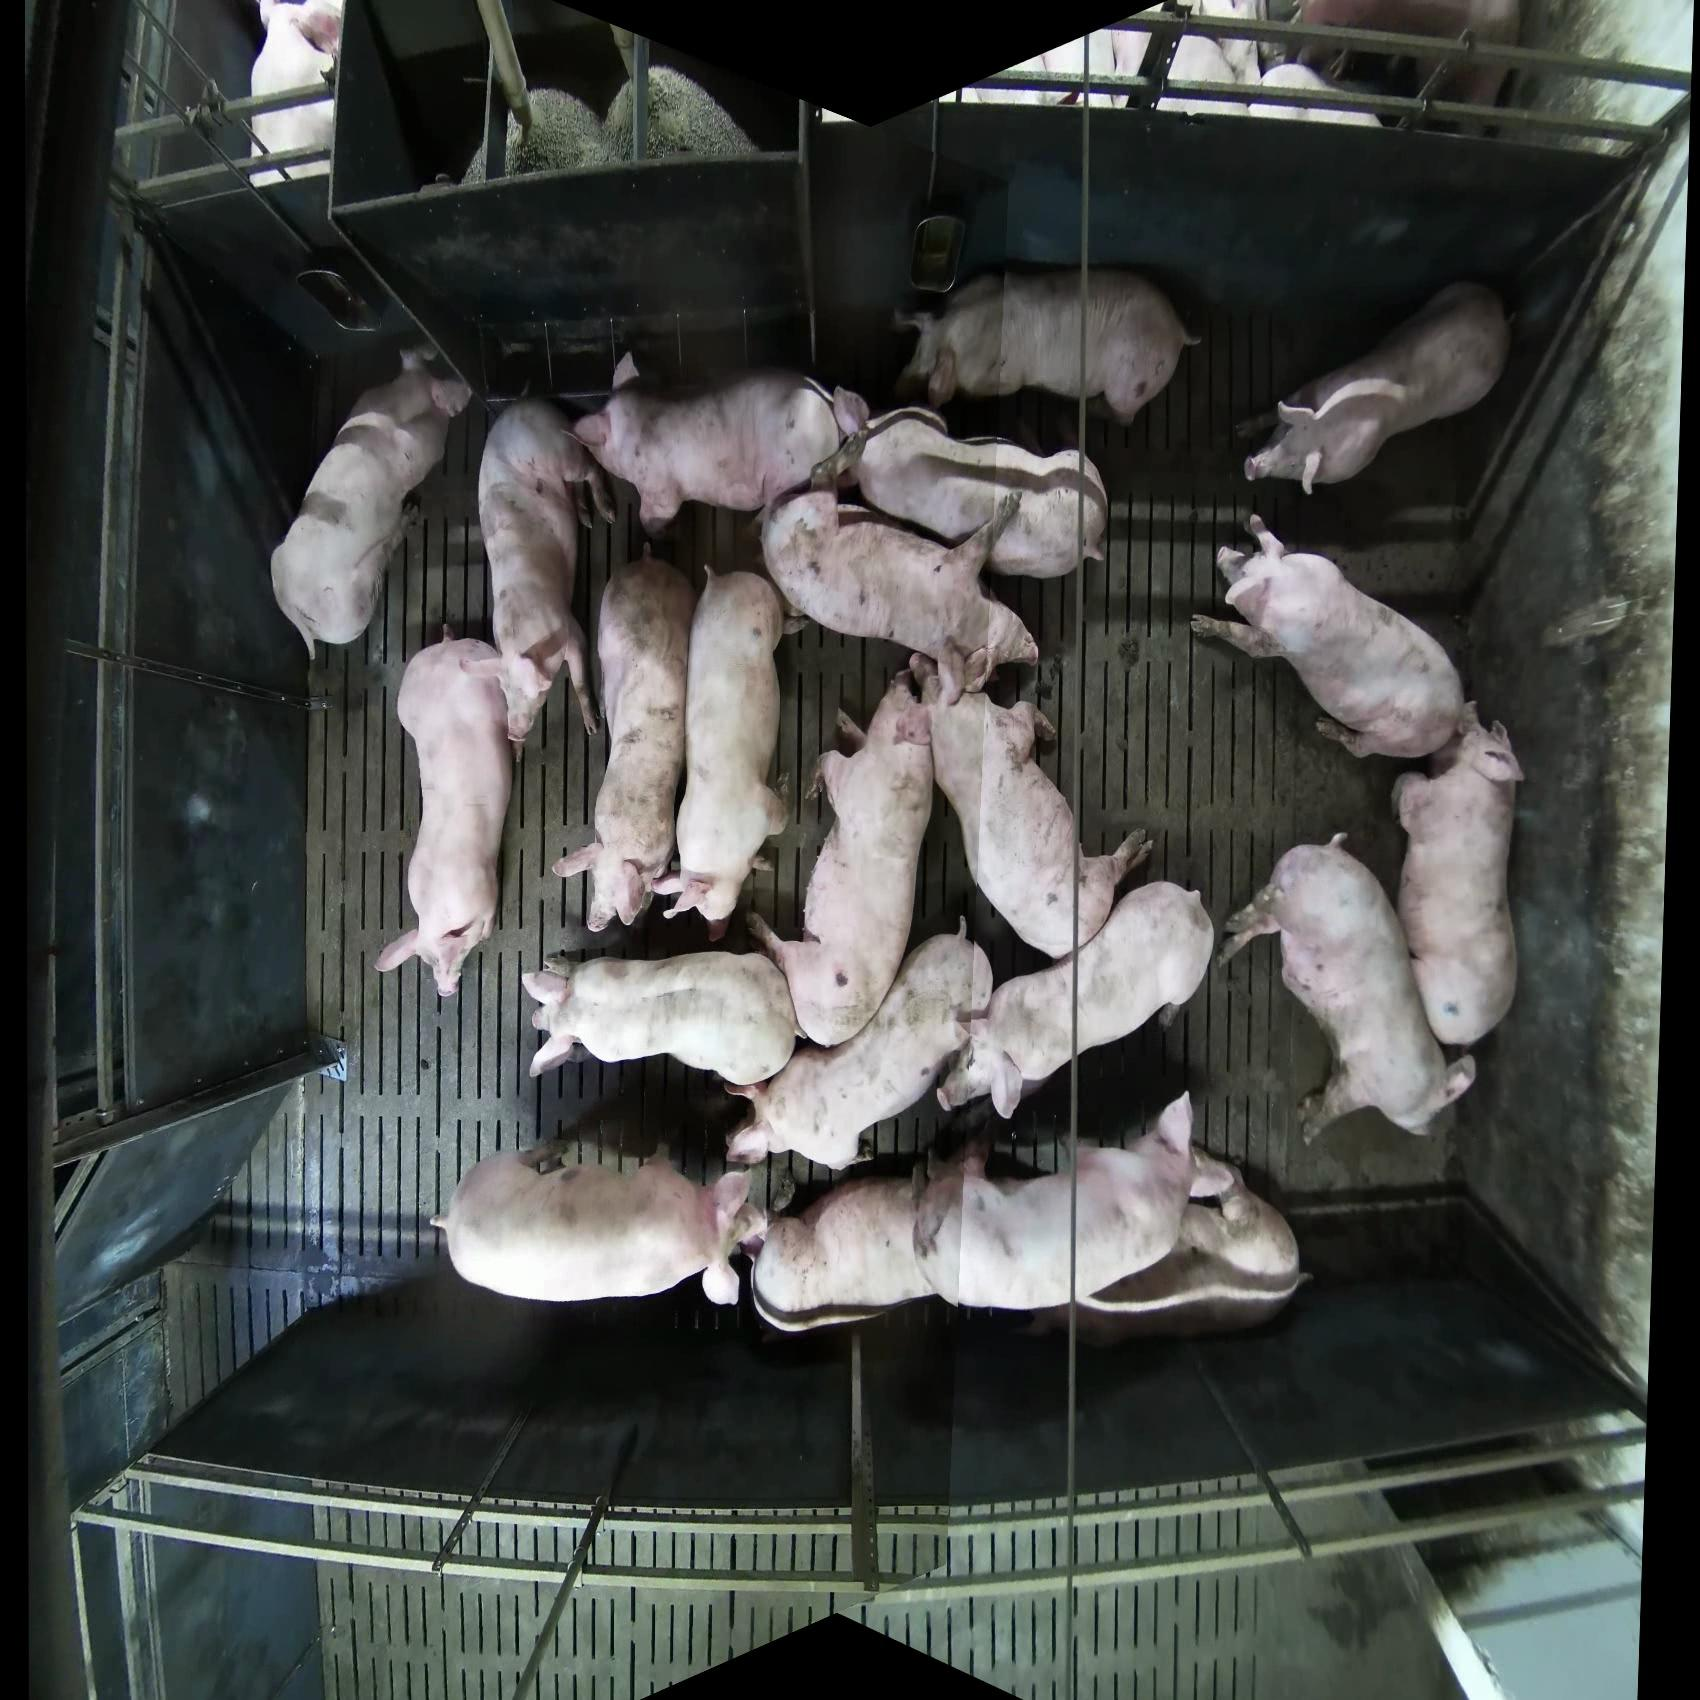pig: (1217, 833, 1477, 1147), (915, 641, 1155, 964), (746, 662, 939, 1049), (719, 915, 993, 1172), (1189, 511, 1468, 763), (936, 880, 1216, 1121), (372, 630, 550, 999), (269, 349, 473, 663), (912, 1091, 1197, 1312), (758, 486, 1041, 701), (747, 1133, 1048, 1334), (1241, 279, 1512, 497), (1021, 1149, 1311, 1345), (430, 1141, 767, 1308), (571, 353, 870, 536), (551, 553, 694, 933), (813, 405, 1110, 581), (652, 567, 792, 931), (894, 266, 1203, 427), (476, 397, 616, 747), (1392, 701, 1526, 1048), (522, 948, 799, 1087), (461, 62, 764, 187), (1292, 2, 1523, 131), (248, 2, 346, 188), (601, 64, 761, 165), (501, 87, 612, 176), (1250, 61, 1386, 128)
